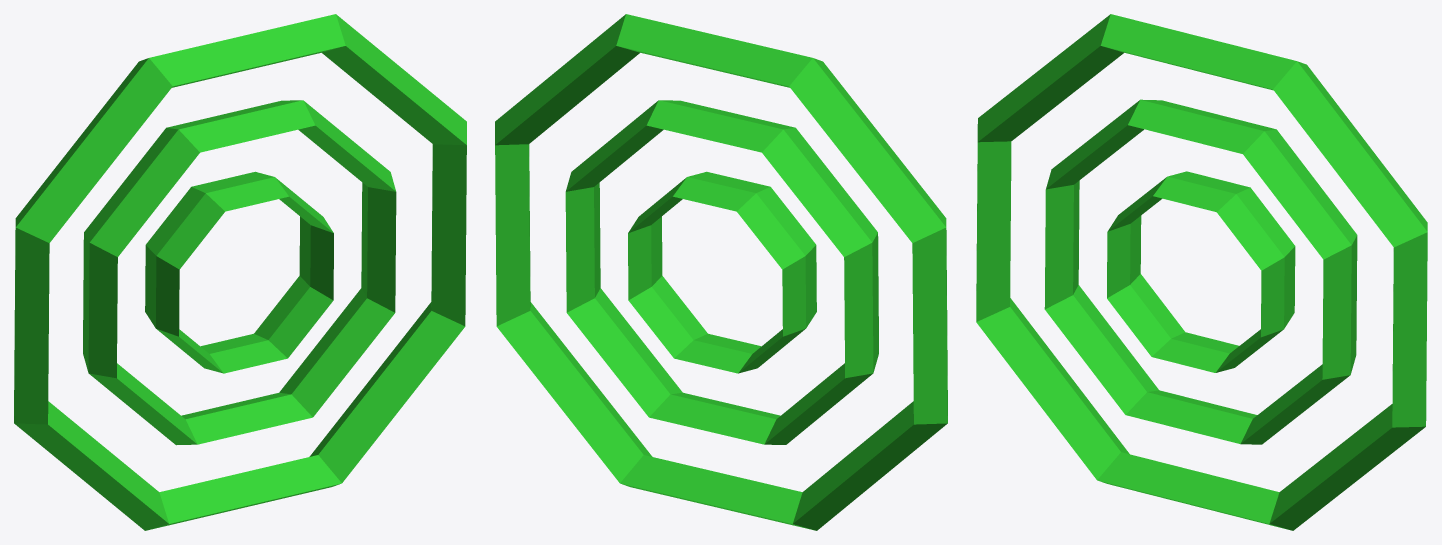
The model's file is amper.fbx.
3 renders of one model, left to right at view 1: azimuth 30°, elevation 25°; view 2: azimuth 150°, elevation 25°; view 3: azimuth 330°, elevation 25°, orthographic.
Visible parts, largest first — view 1: Cylinder, Cylinder.001, Cylinder.002; view 2: Cylinder, Cylinder.001, Cylinder.002; view 3: Cylinder, Cylinder.001, Cylinder.002.
Part boxes in pixels (x1,y1,x2,y2): Cylinder: [14, 14, 466, 530]; Cylinder.001: [83, 100, 396, 445]; Cylinder.002: [145, 171, 333, 373]; Cylinder: [495, 14, 947, 530]; Cylinder.001: [565, 100, 878, 444]; Cylinder.002: [628, 171, 816, 373]; Cylinder: [976, 14, 1427, 530]; Cylinder.001: [1044, 99, 1357, 444]; Cylinder.002: [1107, 171, 1295, 372].
Size of the model in its own units: 108 by 108 by 14.01.
